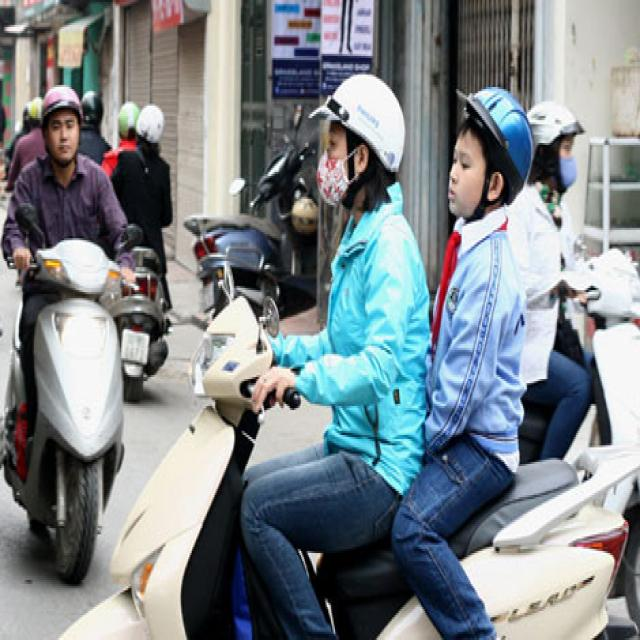1-2-helmet: (307, 73, 406, 173), (455, 87, 533, 203)
